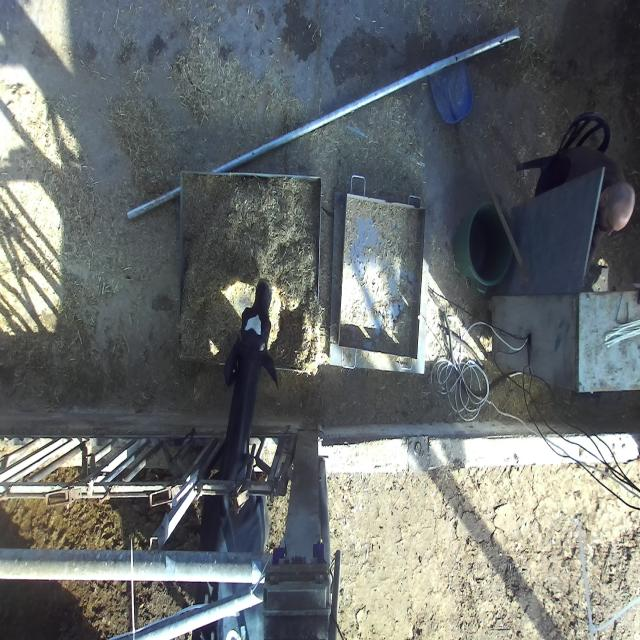cow: (224, 279, 280, 386)
